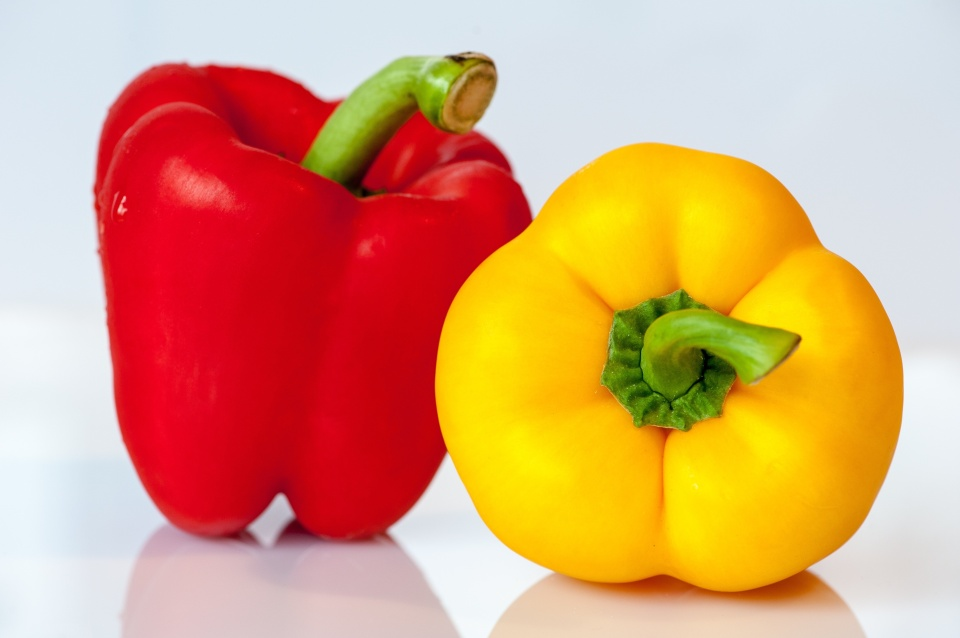fruit: (432, 140, 903, 595), (91, 56, 522, 547)
pedicle: (600, 288, 737, 429)
